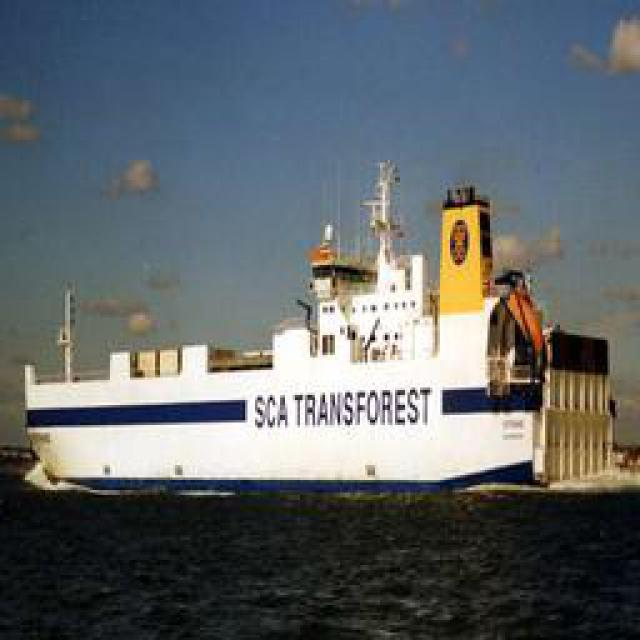Ship: (35, 172, 568, 500)
